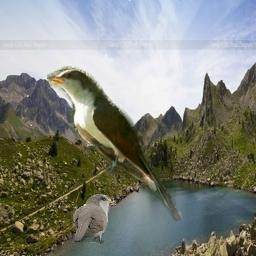Cuckoo: (47, 65, 183, 221), (71, 194, 116, 244)
